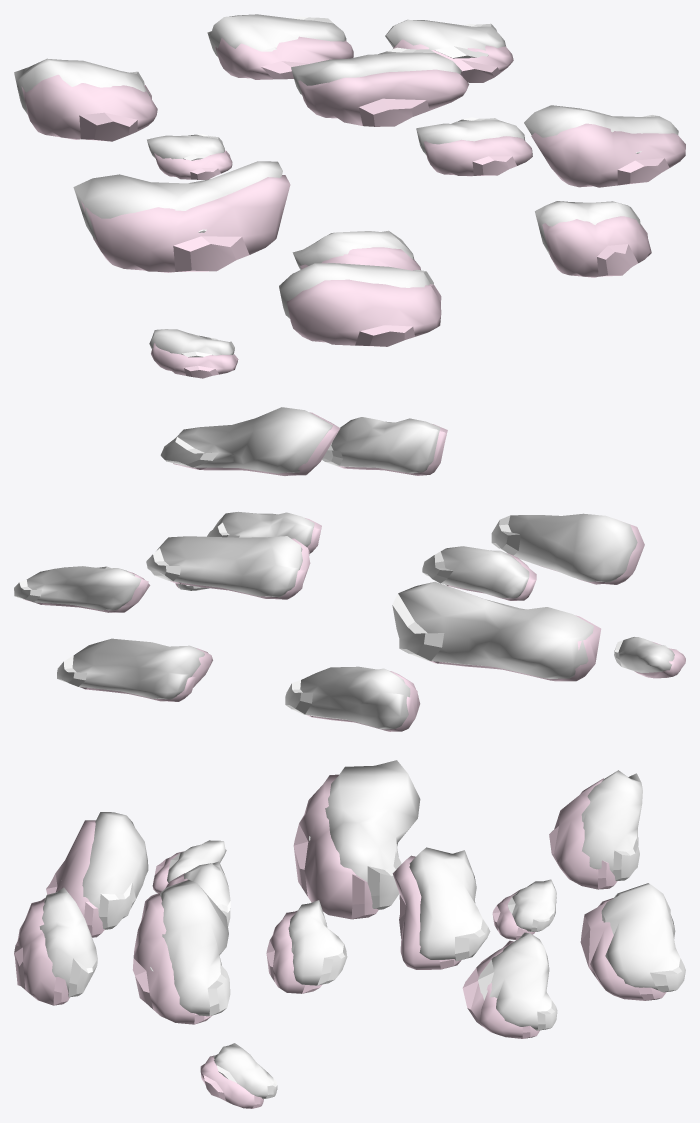
Rendered from nube.obj.
3 views of the same model, one above another, from view 1: azimuth 30°, elevation 25°; view 2: azimuth 150°, elevation 25°; view 3: azimuth 270°, elevation 25° (orthographic). The views are drawn at different scales.
Visible parts, largest first — view 1: Cloud005, Cloud006; view 2: Cloud006, Cloud005; view 3: Cloud006, Cloud005.
Part boxes in pixels (x1=…): Cloud005: x1=21, y1=36, x2=685, y2=378; Cloud006: x1=14, y1=14, x2=678, y2=357; Cloud006: x1=14, y1=407, x2=674, y2=729; Cloud005: x1=23, y1=412, x2=685, y2=731; Cloud006: x1=39, y1=760, x2=685, y2=1098; Cloud005: x1=14, y1=774, x2=666, y2=1108.
Size of the model in its own units: 12.16 by 3.88 by 13.25.
Materials: 1 (1 with a texture image).
